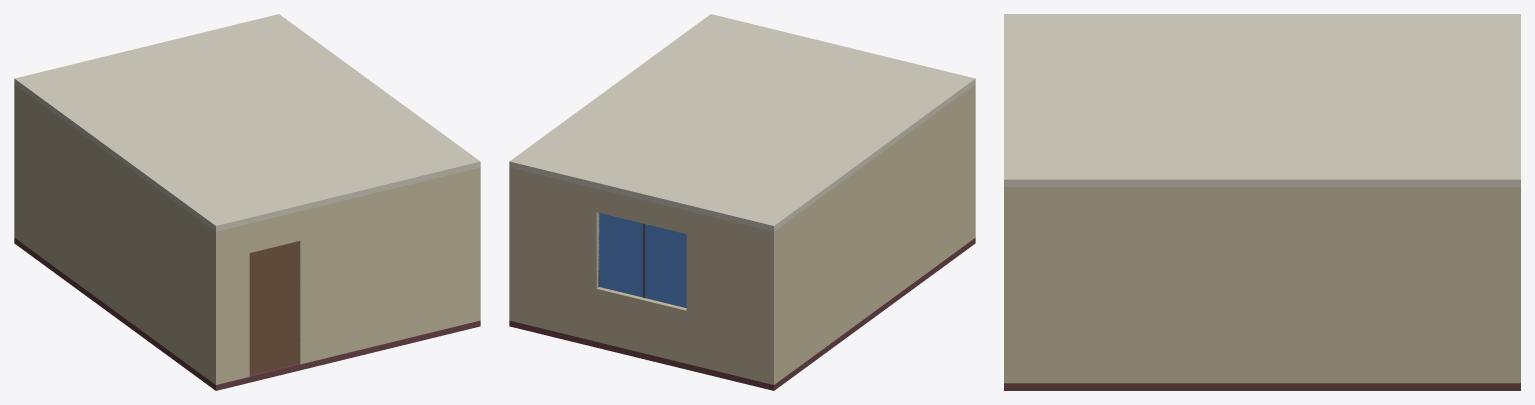
The model's file is hotel_room.glb.
The picture shows the model from 3 angles, left to right: view 1: azimuth 30°, elevation 25°; view 2: azimuth 150°, elevation 25°; view 3: azimuth 270°, elevation 25°; orthographic projection. The views are drawn at different scales.
Parts seen in each view (by area): view 1: ceiling, wall_west, wall_south_b, door, wall_south_a, floor, wall_south_c, wall_east; view 2: ceiling, wall_west, wall_north_a, wall_north_c, wall_north_d, window, wall_north_b, floor; view 3: wall_east, ceiling, floor, wall_south_b.
Part boxes in pixels (left/top/right/bottom): ceiling: left=14, top=14, right=480, bottom=231; wall_west: left=14, top=86, right=221, bottom=384; wall_south_b: left=298, top=167, right=480, bottom=364; door: left=249, top=241, right=297, bottom=374; wall_south_a: left=212, top=224, right=249, bottom=384; floor: left=14, top=238, right=480, bottom=390; wall_south_c: left=249, top=211, right=300, bottom=252; wall_east: left=475, top=168, right=480, bottom=321; ceiling: left=509, top=14, right=975, bottom=231; wall_west: left=774, top=84, right=975, bottom=384; wall_north_a: left=509, top=267, right=777, bottom=384; wall_north_c: left=686, top=234, right=777, bottom=331; wall_north_d: left=509, top=191, right=599, bottom=288; window: left=598, top=213, right=686, bottom=307; wall_north_b: left=509, top=167, right=777, bottom=255; floor: left=509, top=238, right=975, bottom=390; wall_east: left=1004, top=187, right=1520, bottom=383; ceiling: left=1004, top=14, right=1520, bottom=186; floor: left=1004, top=383, right=1520, bottom=390; wall_south_b: left=1004, top=187, right=1012, bottom=383.
Size of the model in its own units: 4.7 by 2.8 by 6.2.
